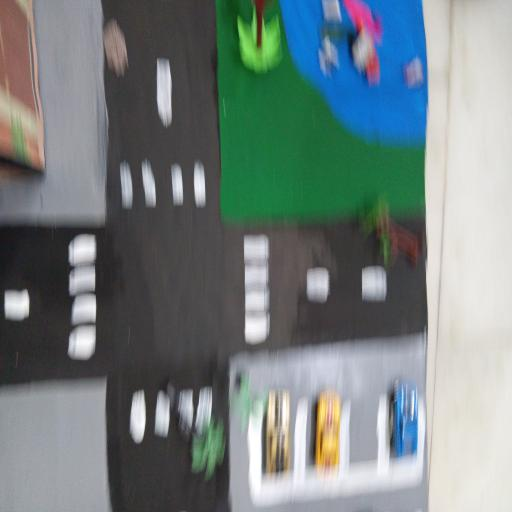fallen trees: (160, 382, 226, 477), (354, 194, 426, 276), (230, 0, 286, 77)
porthole: (104, 22, 132, 77)
trash: (316, 0, 427, 91)
